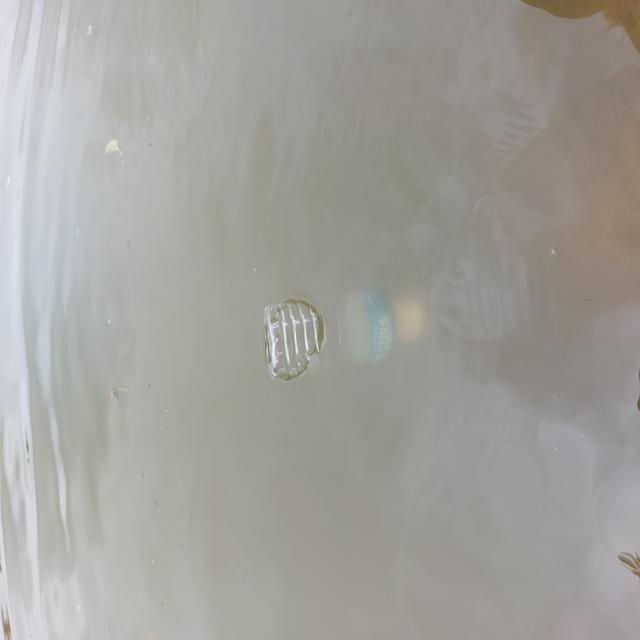waterbottle: (237, 279, 425, 394)
